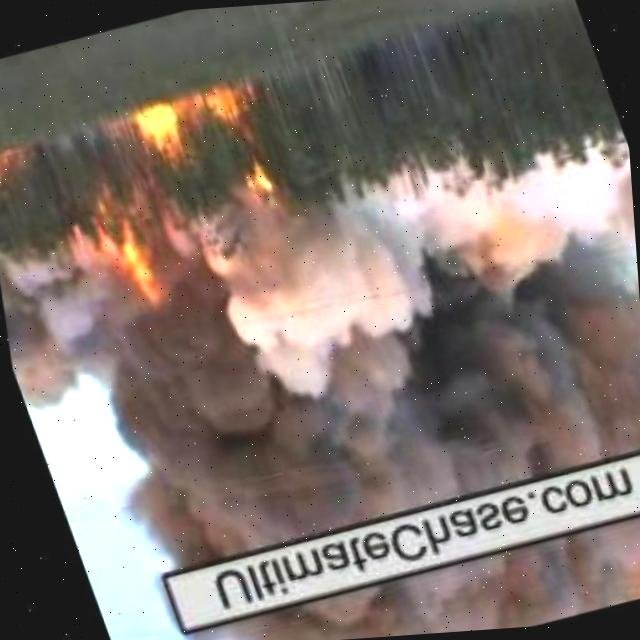fire: (121, 73, 287, 238), (106, 219, 166, 305), (0, 150, 24, 196)
